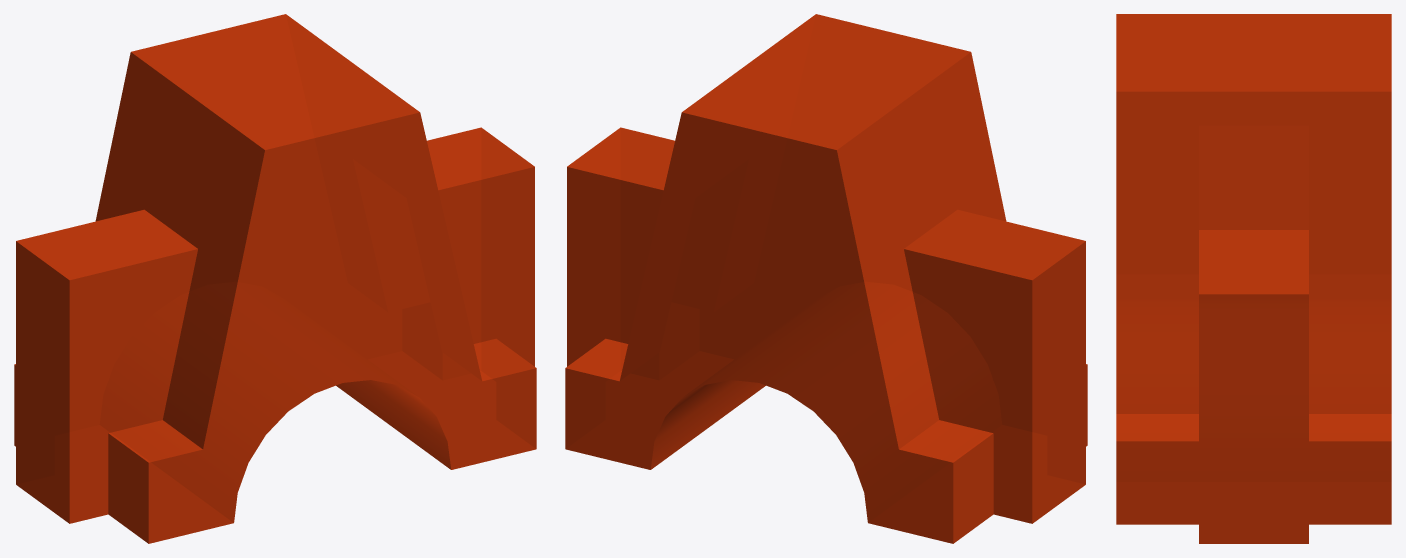
The picture shows the model from 3 angles, left to right: view 1: azimuth 30°, elevation 25°; view 2: azimuth 150°, elevation 25°; view 3: azimuth 270°, elevation 25°; orthographic projection. The views are drawn at different scales.
Visible parts, largest first — view 1: SketchUp; view 2: SketchUp; view 3: SketchUp.
Part boxes in pixels (<box>): SketchUp: <box>14,14,536,543</box>; SketchUp: <box>565,14,1087,543</box>; SketchUp: <box>1116,14,1391,543</box>.
Bounding box in the file's own units: 2362 × 1181 × 1772.
